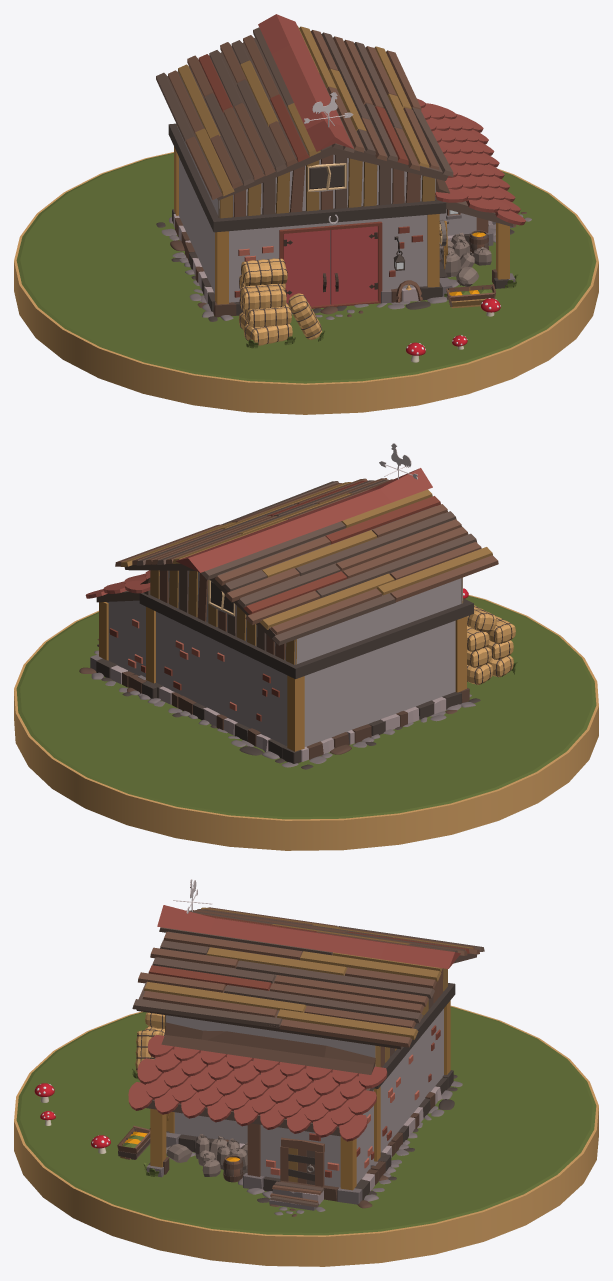
Rendered from barn.glb.
The picture shows the model from 3 angles, top to bottom: view 1: azimuth 30°, elevation 25°; view 2: azimuth 150°, elevation 25°; view 3: azimuth 270°, elevation 25°; orthographic projection.
Visible parts, largest first — view 1: Cylinder.002, Cylinder.009, Cube.089, door, Cube.398, Cube.020, Cube.335, Cube.325, Cube.090, door.001, Cube.242, Cube.094 (+38 smaller); view 2: Cylinder.002, Cube.089, Cylinder.009, Cube.335, Cube.325, Cube.238, Cube.094, Cube.106, Cube.090, Cube.112, Cube.109, Cube.114 (+21 smaller); view 3: Cylinder.002, Cylinder.009, Cube.020, Cube.089, Cube.335, Cube.235, Cube.126, Cube.219, Cube.225, Cube.222, Cube.090, Cube.129 (+21 smaller).
Part boxes in pixels (left/top/right/bottom): Cylinder.002: left=16, top=153, right=596, bottom=383; Cylinder.009: left=14, top=152, right=598, bottom=414; Cube.089: left=177, top=126, right=476, bottom=304; door: left=283, top=226, right=377, bottom=306; Cube.398: left=218, top=154, right=435, bottom=218; Cube.020: left=417, top=98, right=525, bottom=225; Cube.335: left=258, top=14, right=353, bottom=151; Cube.325: left=168, top=123, right=446, bottom=232; Cube.090: left=166, top=37, right=448, bottom=200; door.001: left=279, top=221, right=382, bottom=308; Cube.242: left=241, top=258, right=287, bottom=286; Cube.094: left=237, top=80, right=286, bottom=172; Cylinder.002: left=16, top=596, right=596, bottom=819; Cube.089: left=106, top=570, right=462, bottom=746; Cylinder.009: left=14, top=595, right=598, bottom=850; Cube.335: left=175, top=468, right=432, bottom=572; Cube.325: left=139, top=593, right=473, bottom=679; Cube.238: left=150, top=570, right=296, bottom=664; Cube.094: left=295, top=511, right=456, bottom=575; Cube.106: left=315, top=533, right=477, bottom=597; Cube.090: left=124, top=506, right=452, bottom=644; Cube.112: left=272, top=593, right=395, bottom=645; Cube.109: left=260, top=573, right=394, bottom=629; Cube.114: left=201, top=521, right=345, bottom=580; Cylinder.002: left=16, top=1006, right=596, bottom=1235; Cylinder.009: left=14, top=1005, right=598, bottom=1266; Cube.020: left=128, top=1034, right=387, bottom=1141; Cube.089: left=165, top=1009, right=443, bottom=1187; Cube.335: left=157, top=905, right=460, bottom=968; Cube.235: left=161, top=1022, right=375, bottom=1074; Cube.126: left=236, top=960, right=434, bottom=998; Cube.219: left=224, top=985, right=422, bottom=1023; Cube.225: left=132, top=999, right=282, bottom=1028; Cube.222: left=144, top=981, right=306, bottom=1012; Cube.090: left=136, top=931, right=477, bottom=1049; Cube.129: left=279, top=1019, right=412, bottom=1047.
Size of the model in its own units: 24.37 by 11.46 by 24.37.
